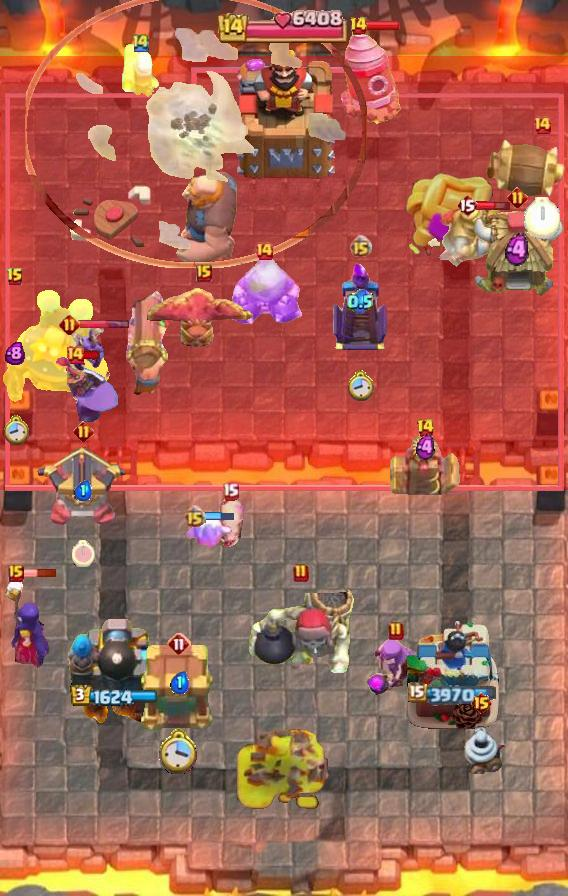axe: (3, 576, 51, 667)
balloon: (172, 167, 240, 269)
battle-healer: (124, 283, 172, 397)
bomb: (140, 644, 218, 732)
clock: (217, 9, 351, 43)
electro-giant: (245, 579, 357, 689)
electro-spirit: (505, 233, 529, 267), (347, 289, 373, 315), (416, 434, 436, 462), (5, 341, 25, 365), (170, 671, 189, 694), (74, 479, 92, 501)
elixir: (159, 727, 200, 774), (524, 197, 560, 239), (346, 369, 374, 401), (3, 415, 29, 446), (72, 541, 95, 568)
elixir-golem-big: (55, 354, 121, 428)
emote: (78, 318, 130, 329), (476, 200, 511, 213), (365, 20, 401, 32), (203, 511, 235, 522), (23, 568, 58, 578), (83, 349, 102, 361)
giant: (213, 494, 247, 550)
goblin-brawler: (390, 430, 460, 498)
goblin-drill: (457, 720, 505, 774)
ice-spirit-evolution-symbol: (330, 260, 390, 352)
king-tower: (229, 43, 339, 181)
lava-pup: (37, 445, 129, 527)
little-prince: (0, 287, 112, 407)
magic-archer: (341, 31, 401, 125)
mirror: (184, 513, 234, 551)
mother-witch: (147, 286, 261, 352)
prince: (470, 209, 564, 299)
queen-tower: (404, 617, 502, 731)
ram-rider: (425, 202, 539, 272)
rascal-girl: (364, 637, 428, 699)
royal-delivery: (68, 325, 104, 373)
royal-ghost: (25, 0, 367, 268)
royal-guardian: (226, 249, 302, 329)
selected: (409, 683, 500, 706), (70, 685, 158, 708)
text: (167, 632, 191, 656), (182, 504, 205, 528), (471, 691, 494, 715), (349, 235, 372, 258), (456, 193, 478, 217), (508, 187, 529, 209), (59, 313, 80, 335), (73, 421, 94, 443), (131, 31, 151, 53), (532, 115, 552, 135), (254, 241, 274, 261), (65, 345, 85, 365), (416, 418, 436, 438), (349, 16, 368, 36), (6, 267, 24, 287), (293, 563, 309, 583), (388, 621, 404, 641), (222, 483, 239, 501), (196, 264, 212, 282), (8, 564, 24, 582)
the-log: (484, 137, 568, 199)
tombstone: (120, 41, 162, 99)
tower-bar: (67, 611, 161, 731)
